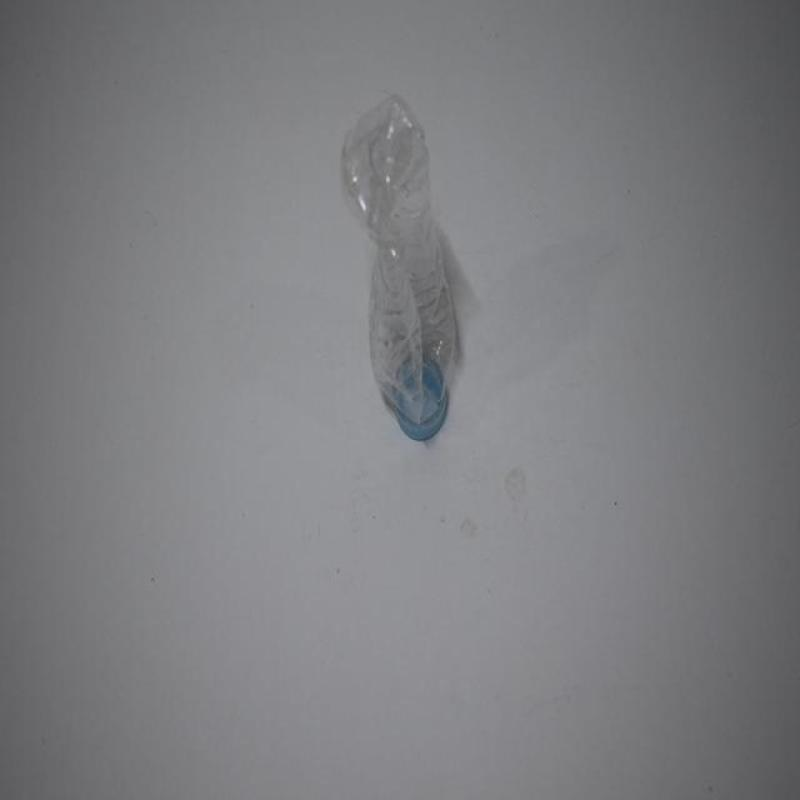botella: (339, 92, 463, 450)
